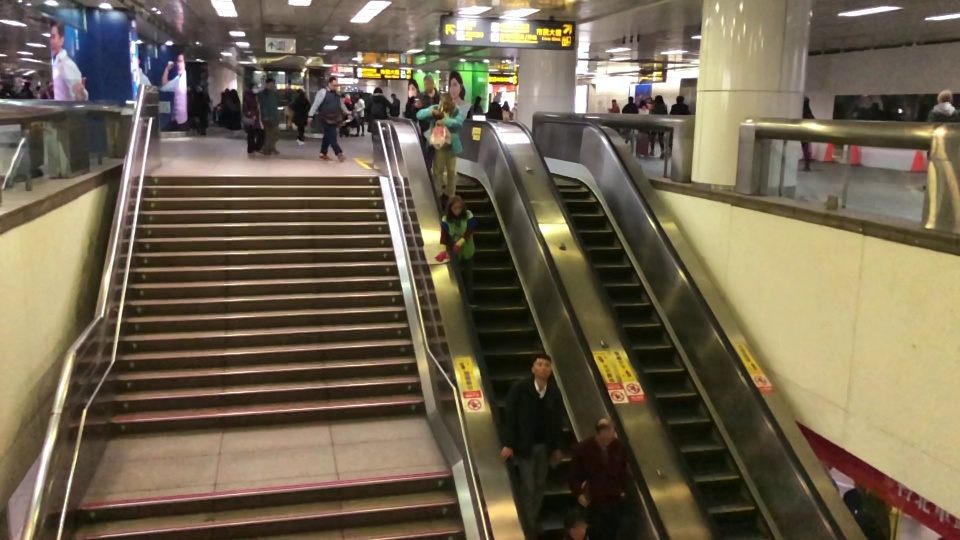person_head: (562, 506, 589, 540), (529, 353, 553, 377), (594, 417, 615, 443), (445, 194, 466, 214), (245, 79, 260, 94), (439, 92, 452, 109), (422, 74, 434, 91), (326, 76, 339, 90), (488, 101, 501, 110), (937, 88, 946, 101), (295, 87, 306, 97), (654, 94, 665, 103), (265, 78, 274, 88), (638, 99, 648, 108), (675, 94, 685, 103), (803, 95, 810, 107), (373, 86, 383, 94), (502, 100, 510, 110), (474, 95, 482, 104), (627, 95, 634, 103), (355, 91, 362, 98), (390, 92, 396, 98), (611, 98, 617, 104)
person_vbox: (500, 352, 563, 539), (567, 417, 629, 536), (415, 93, 464, 199), (437, 193, 480, 309), (916, 88, 958, 194), (306, 76, 352, 162), (238, 79, 264, 153), (409, 75, 439, 139), (259, 77, 281, 154), (364, 86, 394, 134), (287, 87, 311, 144), (647, 94, 668, 158), (669, 94, 691, 151), (799, 95, 815, 173), (622, 95, 638, 152), (352, 91, 365, 137), (485, 95, 501, 120), (467, 95, 483, 118), (389, 90, 400, 116), (501, 100, 513, 121), (607, 99, 621, 114), (638, 98, 649, 115)
